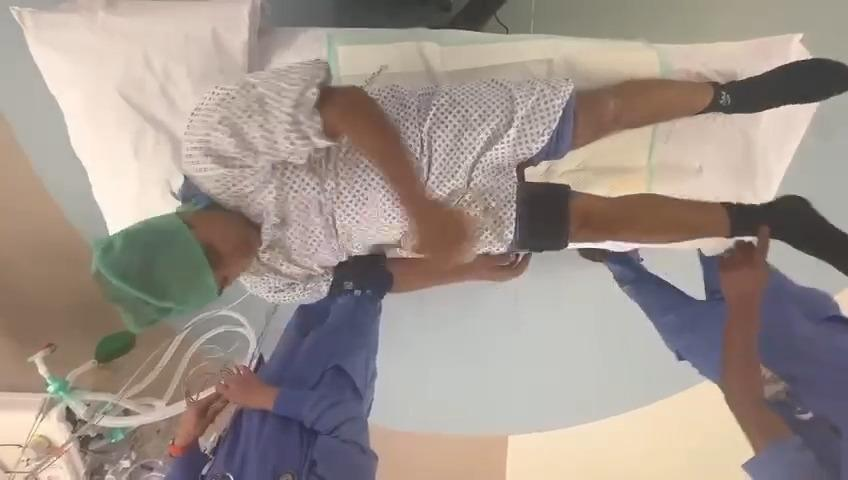patient: (265, 0, 468, 27)
